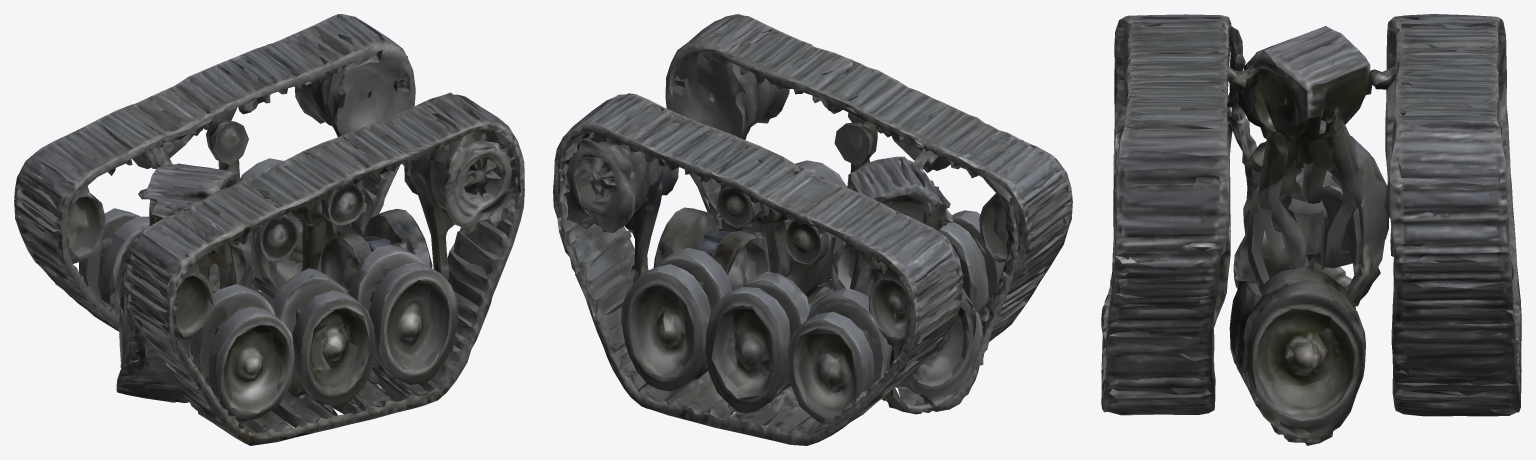
Rendered from light_tracks_only.glb.
3 views of the same model, side by side, from view 1: azimuth 30°, elevation 25°; view 2: azimuth 150°, elevation 25°; view 3: azimuth 270°, elevation 25° (orthographic). The views are drawn at different scales.
Visible parts, largest first — view 1: geometry_0; view 2: geometry_0; view 3: geometry_0.
Part boxes in pixels (<box>): geometry_0: <box>14,14,524,445</box>; geometry_0: <box>553,14,1072,445</box>; geometry_0: <box>1101,14,1521,445</box>.
Bounding box in the file's own units: 0.8 × 0.5677 × 0.6437.
1 material, 1 textured.
